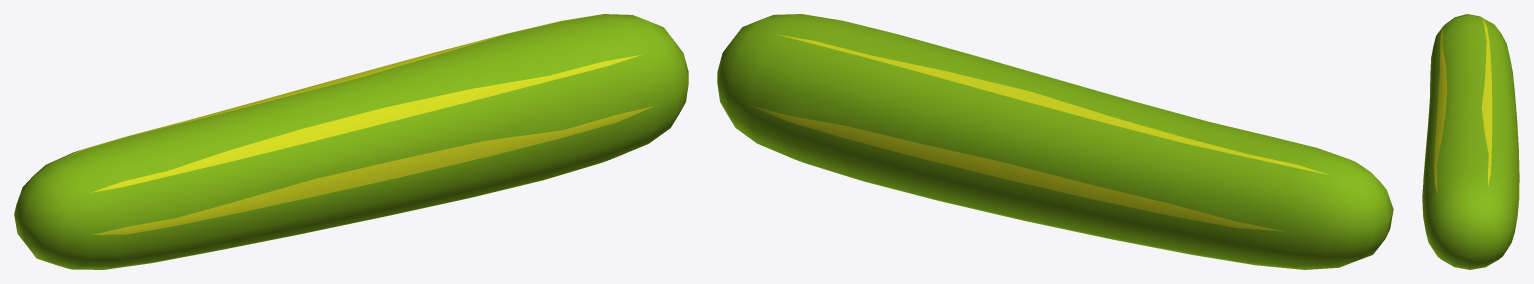
The model's file is cucumber.glb.
The picture shows the model from 3 angles, left to right: view 1: azimuth 30°, elevation 25°; view 2: azimuth 150°, elevation 25°; view 3: azimuth 270°, elevation 25°; orthographic projection. The views are drawn at different scales.
Visible parts, largest first — view 1: FoodIngredient_Cucumber; view 2: FoodIngredient_Cucumber; view 3: FoodIngredient_Cucumber.
Part boxes in pixels (box(x1,y1,x2,y2)): FoodIngredient_Cucumber: box(14, 14, 688, 269); FoodIngredient_Cucumber: box(717, 14, 1393, 269); FoodIngredient_Cucumber: box(1422, 14, 1519, 269).
Bounding box in the file's own units: 1.64 × 0.3243 × 0.3214.
Materials: 1 (1 with a texture image).
